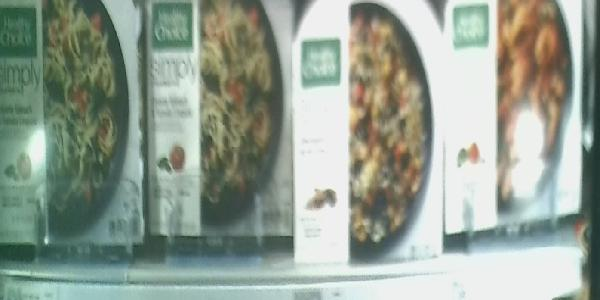pizza1: (294, 1, 447, 264), (142, 1, 294, 241), (1, 1, 147, 242), (449, 1, 586, 252)
